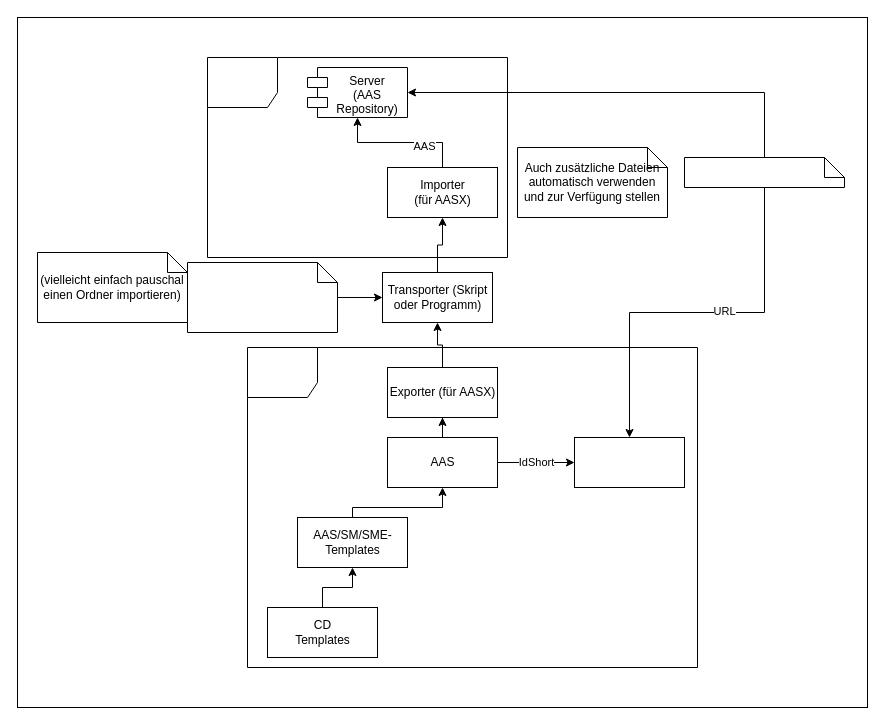
This 885x725 diagram has some shape labels left out. The shapes that lost their labels are listed below. From the top down, each one's box as (x1, y1, x2, y2) in pixels, then its label:
(206, 56, 508, 258): AWS (hosten AAS)
(684, 156, 844, 188): ServerSerttings.json
(186, 262, 338, 332): Sendet .aasx + Infos welche Dateien verwendet werden sollen
(574, 436, 684, 488): QRCode-generator
(246, 346, 698, 668): PC (erstellen AAS
